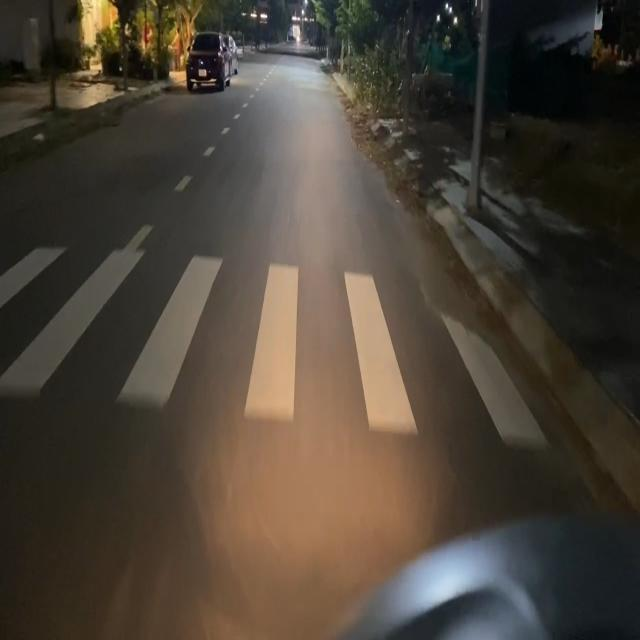walk-crossing: (0, 236, 544, 452)
